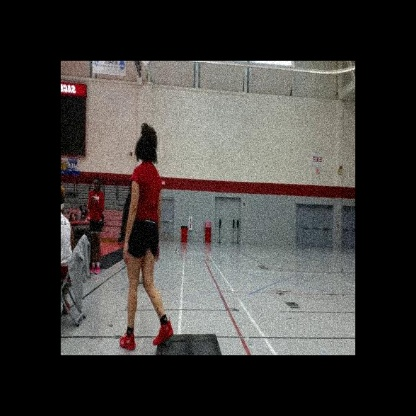lateral_flexion_right: (119, 116, 176, 355)
stance_width_broad: (119, 156, 176, 355)
